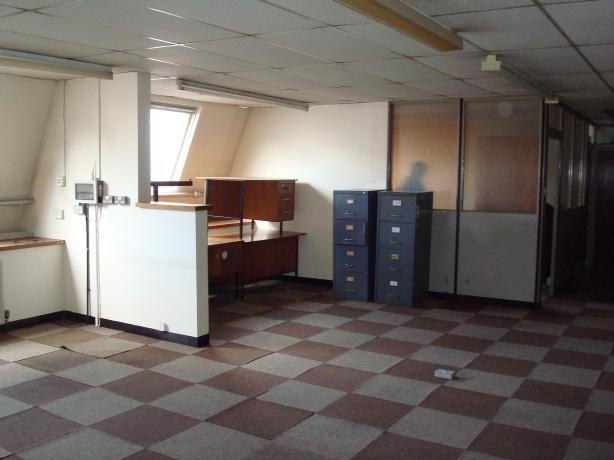Filing Cabinet: (372, 191, 420, 306), (331, 188, 370, 301)
